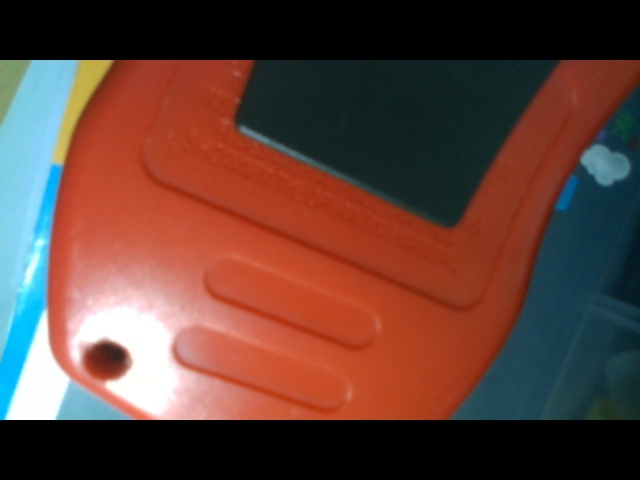Screw holes: (81, 335, 134, 384)
